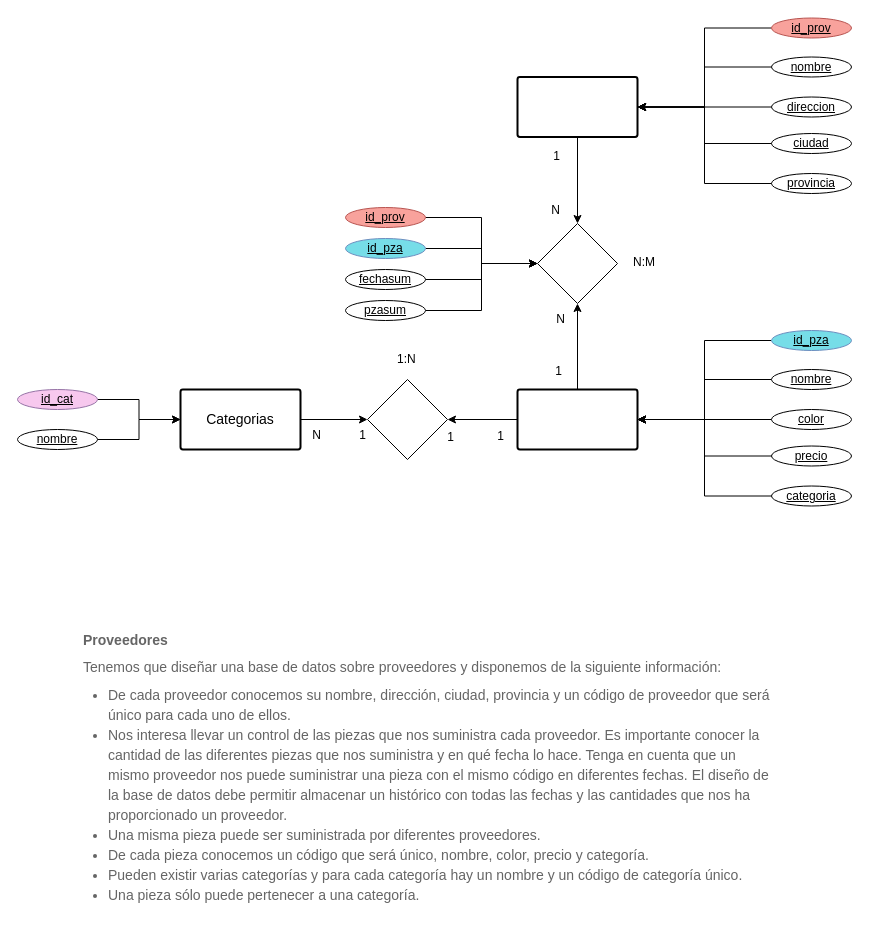
The diagram is 869 pixels wide and 940 high, and some of its shapes have lost their labels. The centre of each missing label's shape, as x and y in pixels:
Productos: (x=577, y=419)
Proveedores: (x=577, y=107)
Suministran: (x=577, y=263)
tienen: (x=407, y=419)
